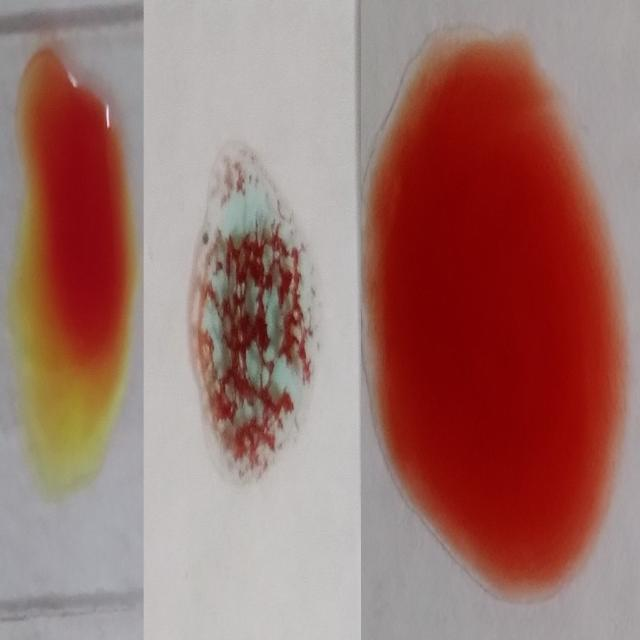A: (192, 154, 309, 480)
